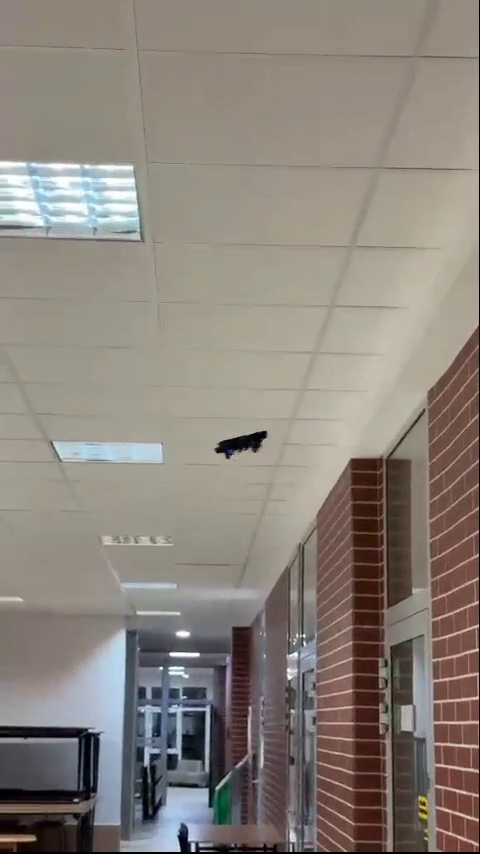drone: (215, 428, 269, 459)
